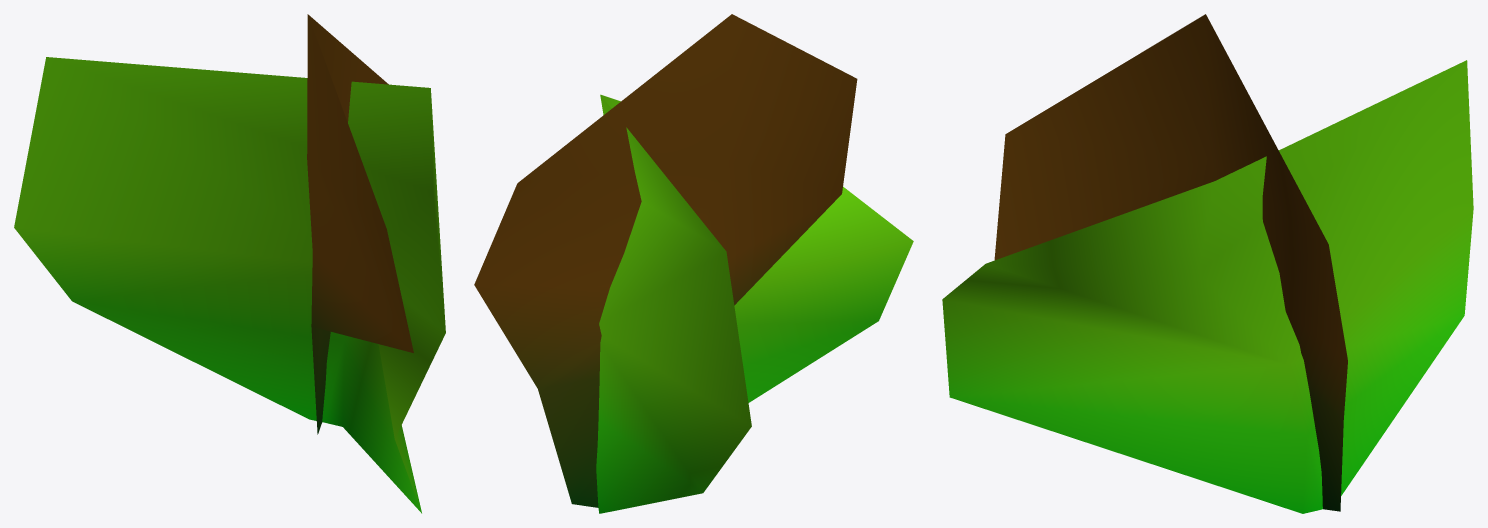
The model's file is Var1Hi32.fbx.
The picture shows the model from 3 angles, left to right: view 1: azimuth 30°, elevation 25°; view 2: azimuth 150°, elevation 25°; view 3: azimuth 270°, elevation 25°; orthographic projection. The views are drawn at different scales.
Parts seen in each view (by area): view 1: bend1; view 2: bend1; view 3: bend1.
Part boxes in pixels (left/top/right/bottom): bend1: left=14, top=14, right=445, bottom=513; bend1: left=474, top=14, right=913, bottom=513; bend1: left=942, top=14, right=1473, bottom=513.
Size of the model in its own units: 1.04 by 1.37 by 1.42.
